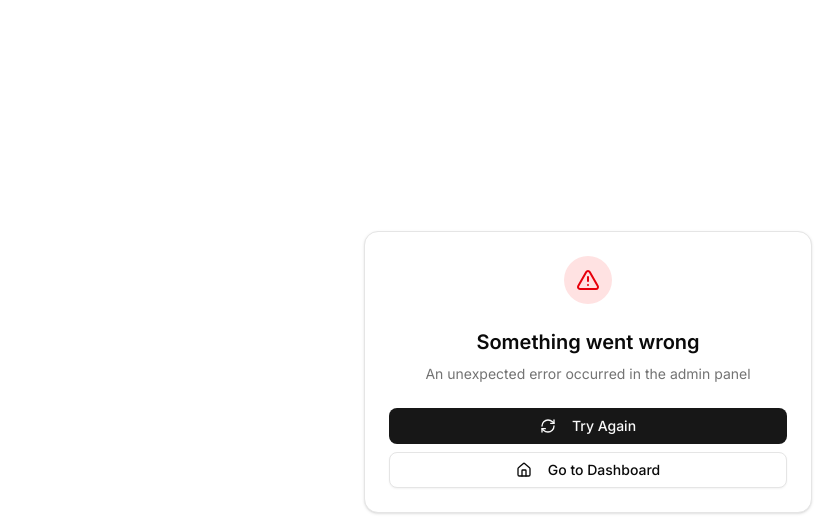
Test: Admin Error Boundary Integration › should allow retry after error
Check: the text "Something went wrong" is shown, box [476,330,700,354]
Click the button "Try Again".
click(588, 426)  # box [389,408,787,444]
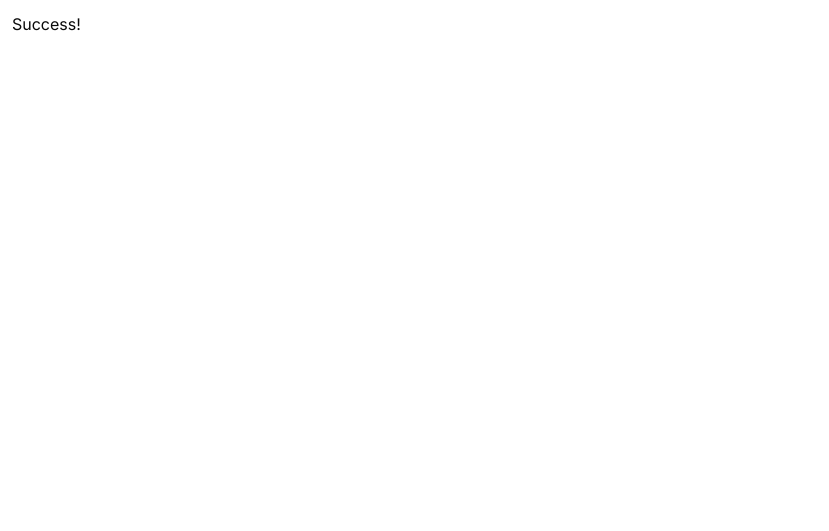
Check: the text "Success!" is shown, box [12,14,81,34]
